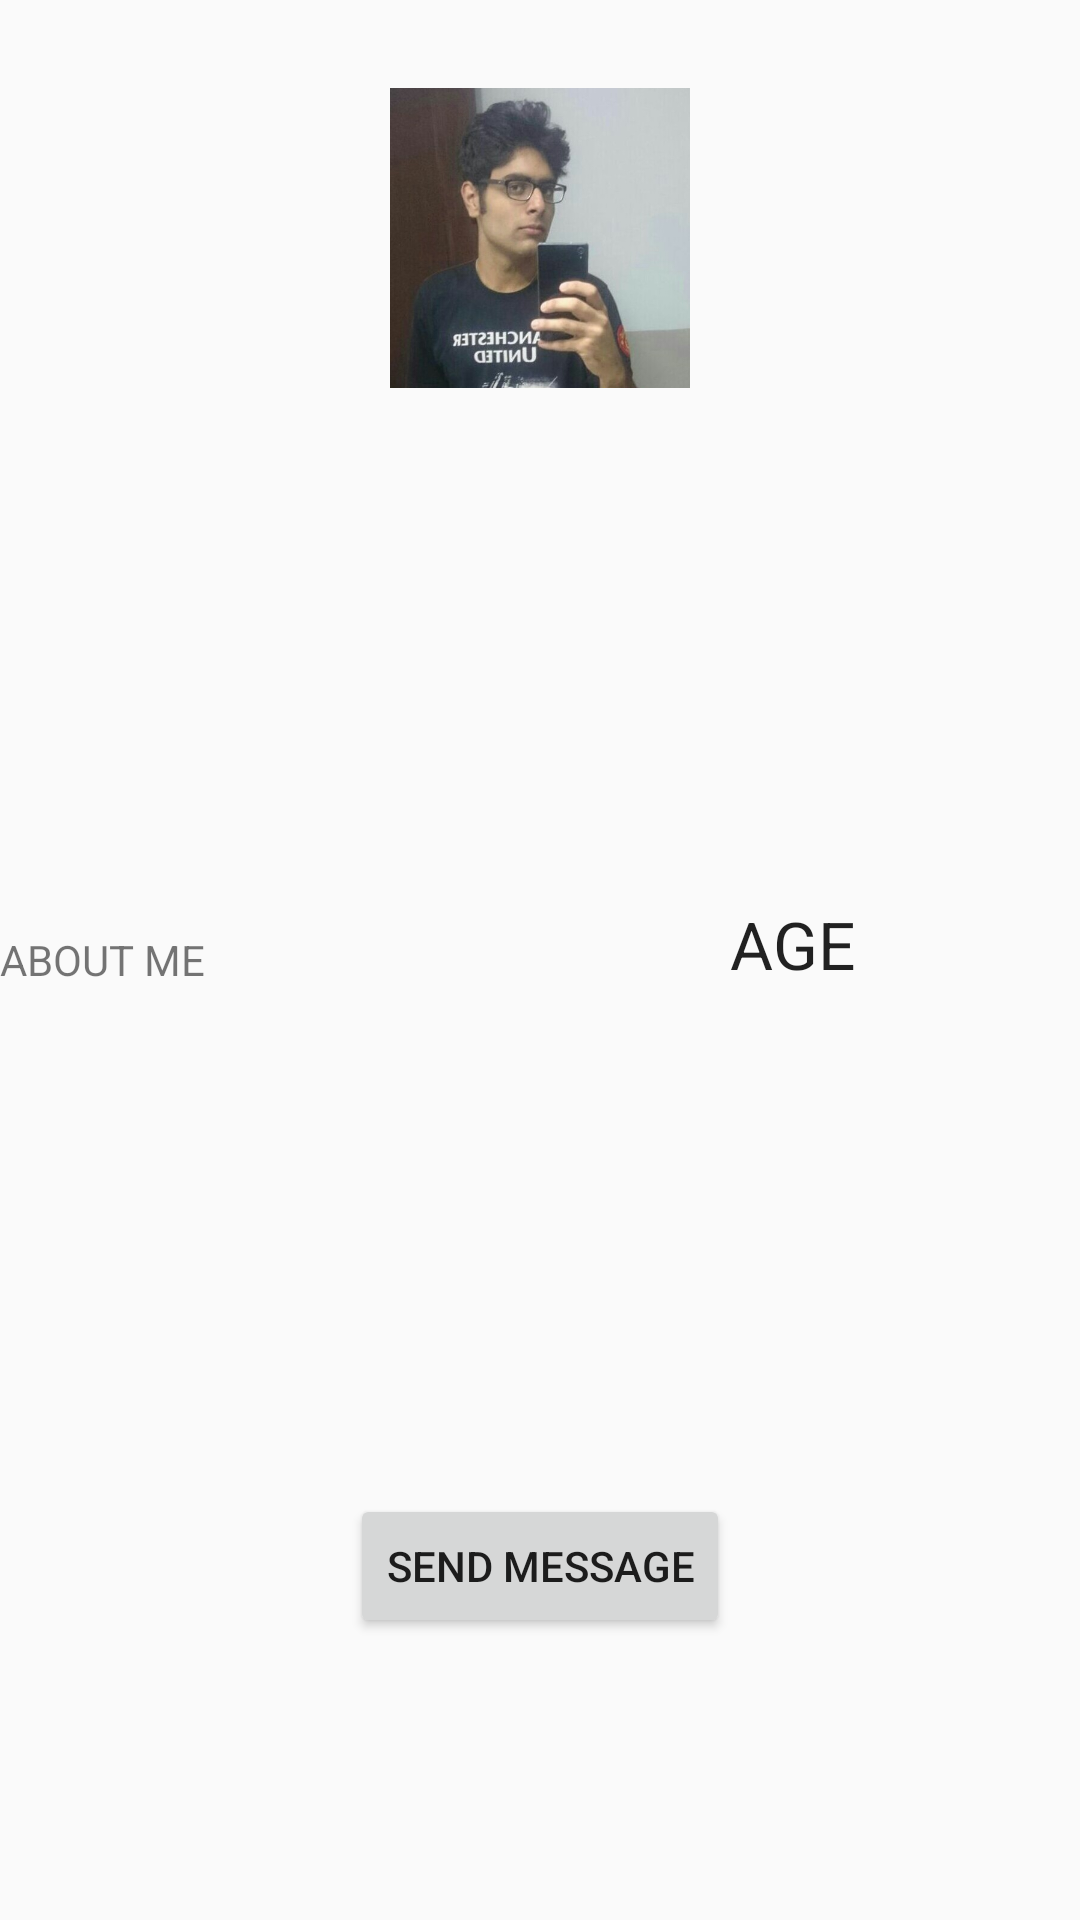

Screen size 1080 x 1920. Icon name, then its box in pixels as (x1, y1, x2, y2):
profile pic: (390, 88, 690, 388)
